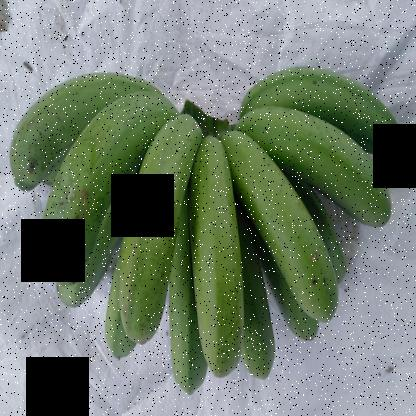unripe: (219, 94, 399, 252), (203, 132, 348, 328), (37, 77, 158, 294), (178, 113, 258, 372), (116, 101, 184, 350), (250, 46, 405, 155), (8, 48, 142, 170), (157, 217, 217, 404), (225, 261, 280, 389)
